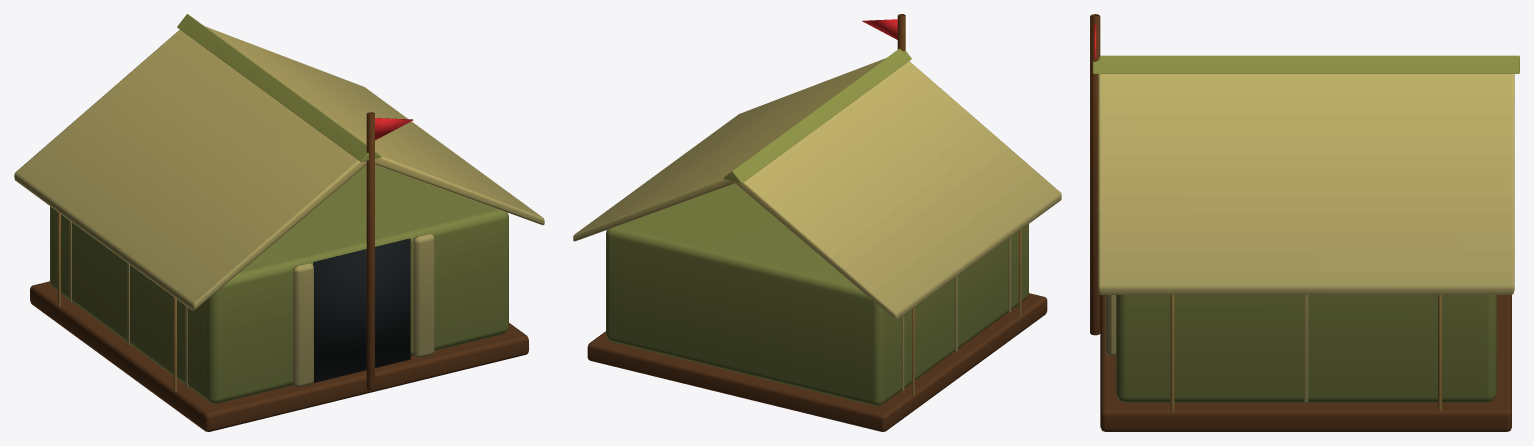
The model's file is tent.glb.
3 views of the same model, side by side, from view 1: azimuth 30°, elevation 25°; view 2: azimuth 150°, elevation 25°; view 3: azimuth 270°, elevation 25° (orthographic). The views are drawn at different scales.
Visible parts, largest first — view 1: Tent roof, Tent wall, Tent floor, Dark entrance, Roof ridge, Rolled flap.001, Rolled flap, Tent pole; view 2: Tent roof, Tent wall, Tent floor, Roof ridge; view 3: Tent roof, Tent wall, Tent floor, Roof ridge, Tent pole, Rolled flap.001, Guy rope.002, Wall seam.003, Guy rope.003.
Boxes of the visible parts, x1,y1,x2,y2 form: Tent roof: [14, 26, 544, 310]; Tent wall: [50, 165, 508, 403]; Tent floor: [30, 281, 528, 431]; Dark entrance: [313, 238, 410, 382]; Roof ridge: [177, 14, 381, 161]; Rolled flap.001: [413, 234, 434, 357]; Rolled flap: [293, 263, 313, 387]; Tent pole: [366, 112, 374, 390]; Tent roof: [573, 58, 1061, 319]; Tent wall: [606, 184, 1028, 406]; Tent floor: [587, 293, 1047, 431]; Roof ridge: [723, 48, 911, 183]; Tent roof: [1098, 74, 1514, 294]; Tent wall: [1116, 295, 1496, 402]; Tent floor: [1100, 295, 1511, 431]; Roof ridge: [1092, 55, 1519, 73]; Tent pole: [1090, 14, 1100, 335]; Rolled flap.001: [1105, 295, 1115, 356]; Guy rope.002: [1170, 295, 1174, 411]; Wall seam.003: [1304, 295, 1308, 402]; Guy rope.003: [1438, 295, 1441, 411].
Size of the model in its own units: 4.56 by 3.5 by 4.18.
Materials: 6 (5 with a texture image).
